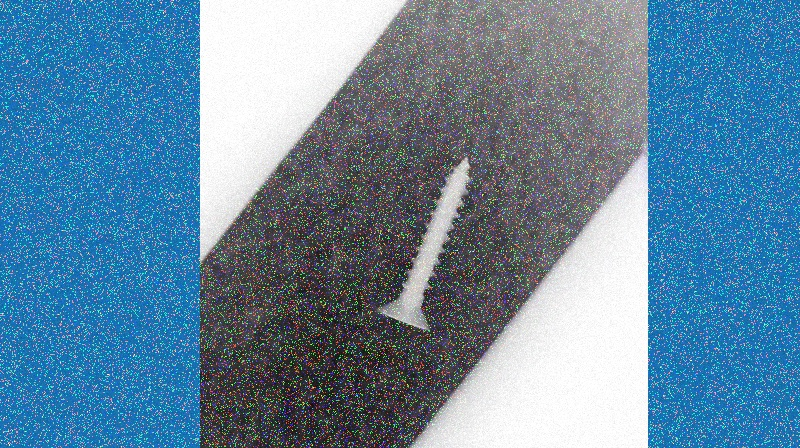S001: (373, 148, 473, 331)
